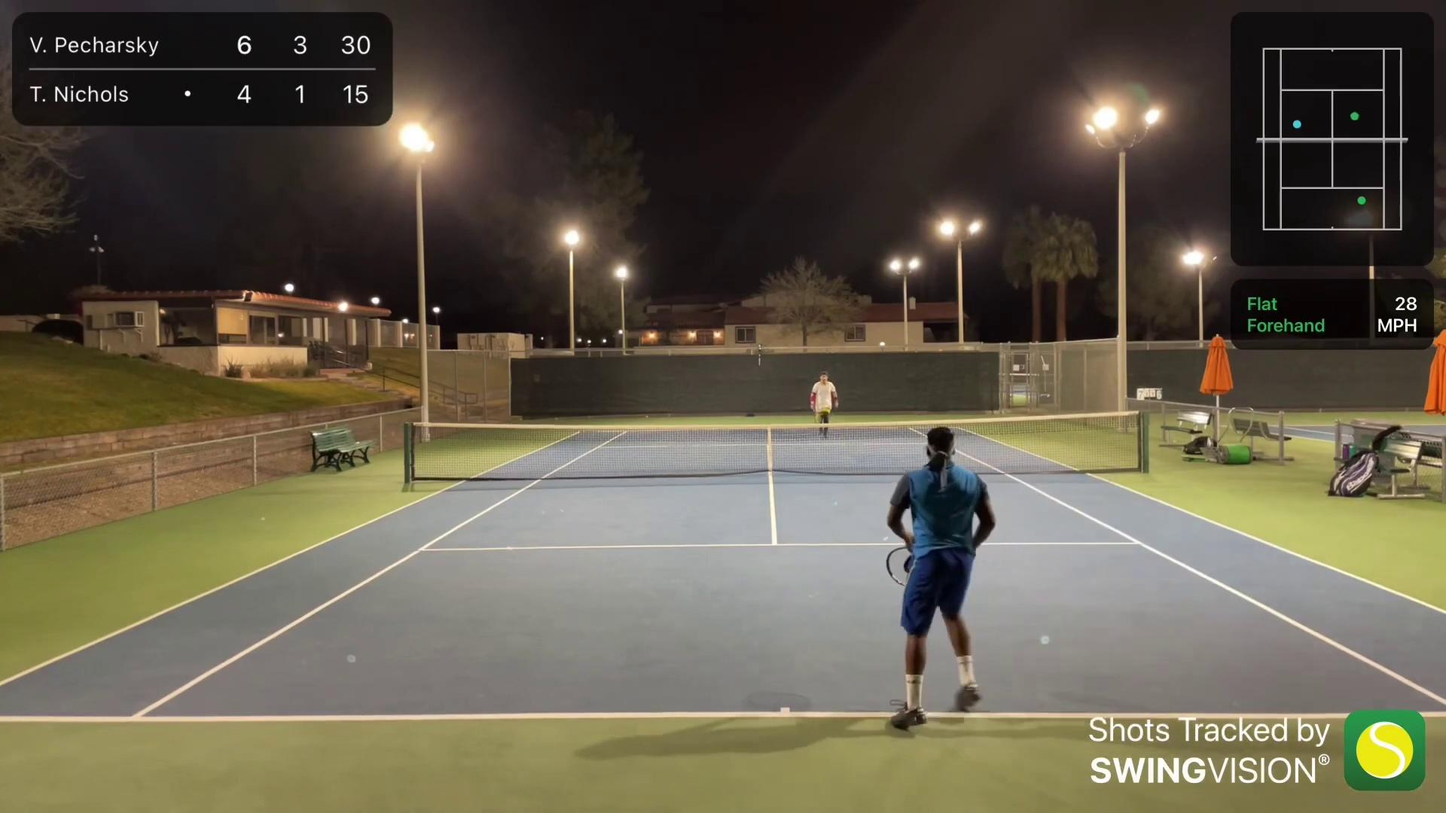ball: (816, 408, 822, 413)
